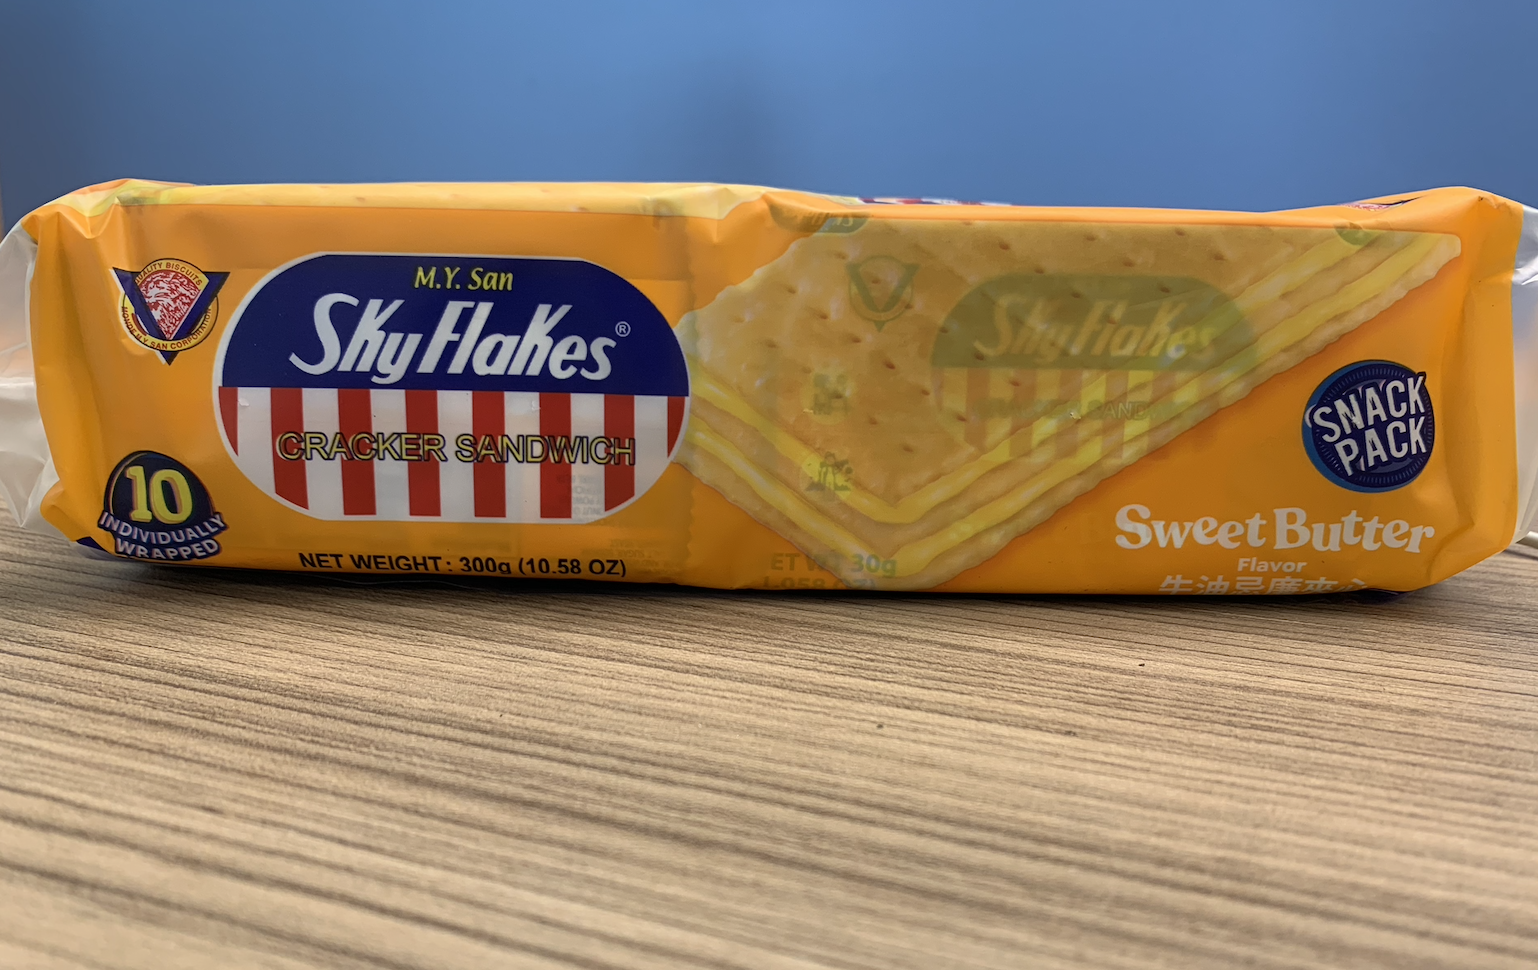crackers_150g: (77, 201, 1454, 571)
